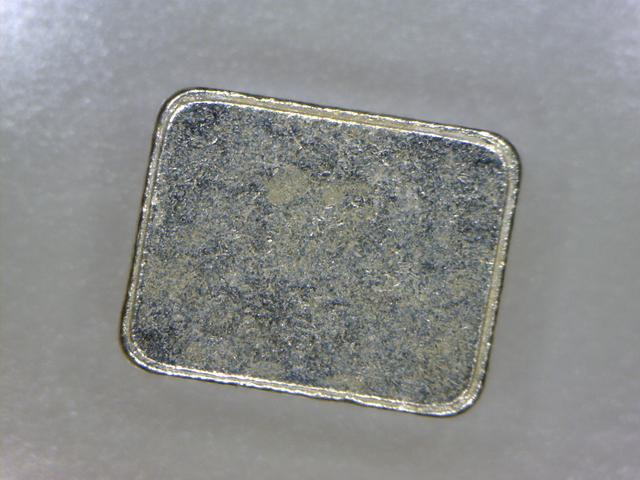nok: (118, 83, 525, 420)
